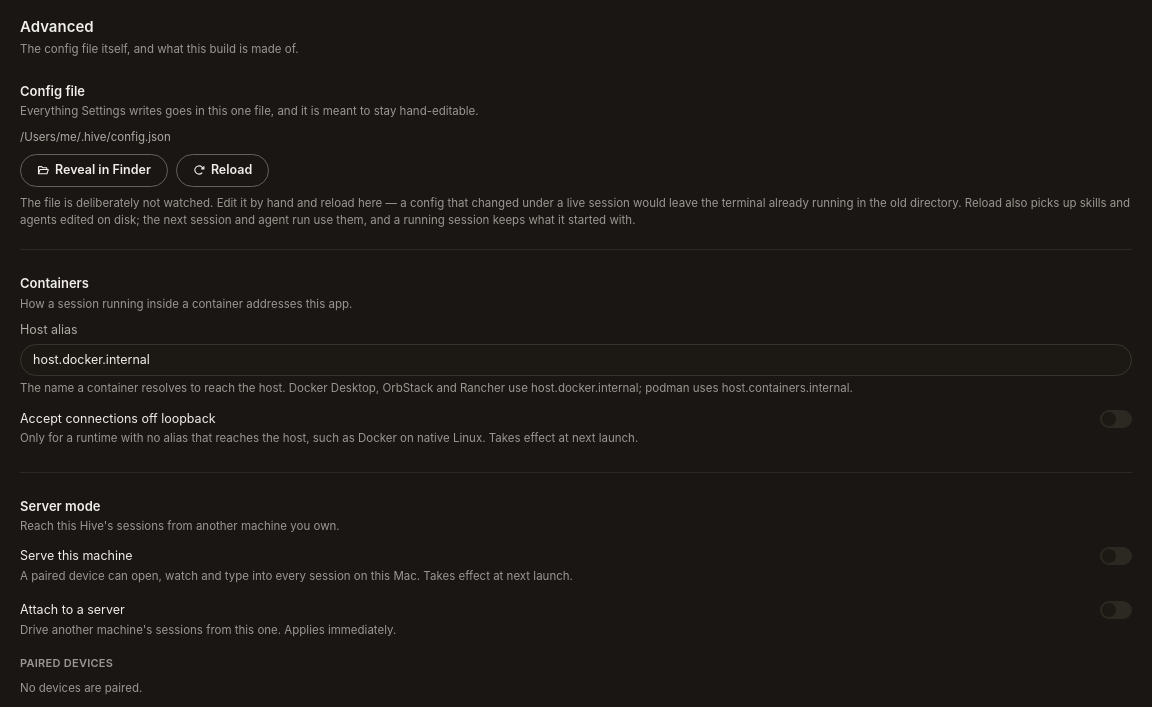
Test: AdvancedSection › names what a reload read but cannot apply until a relaunch
Step 1. Click the button "Reload" → (223, 170), box x1=176 y1=154 x2=269 y2=187
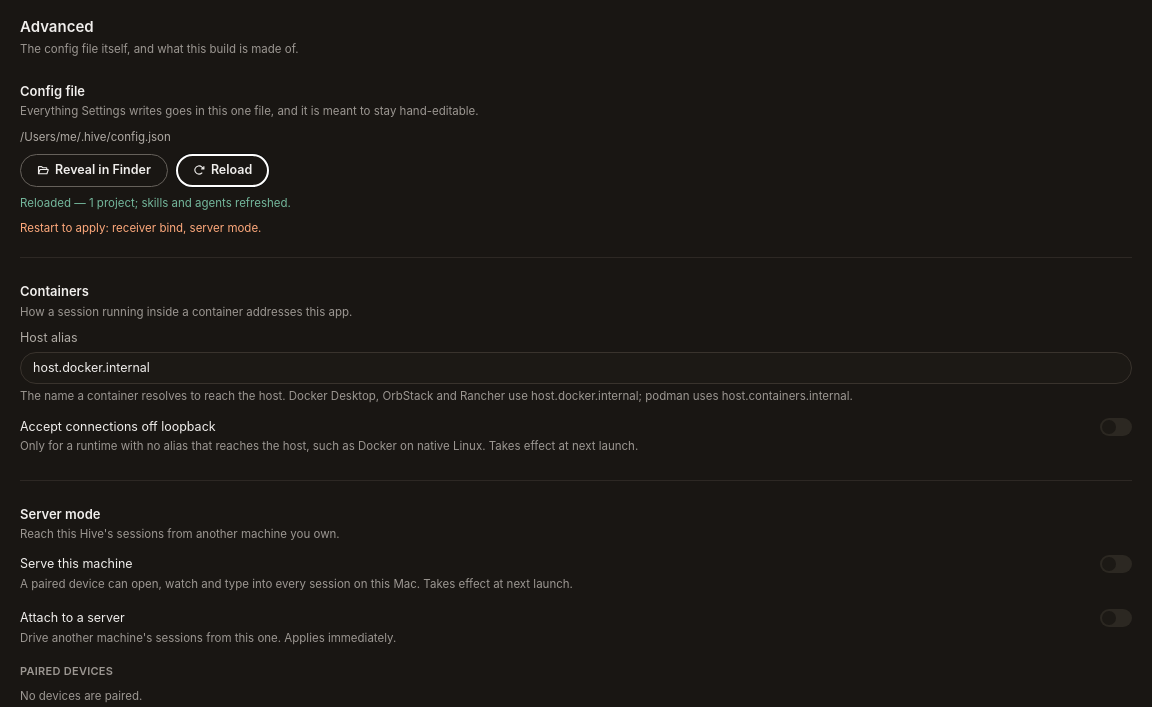
Check: the text "Restart to apply: receiver bind, server mode." is shown, box x1=20 y1=221 x2=261 y2=235
